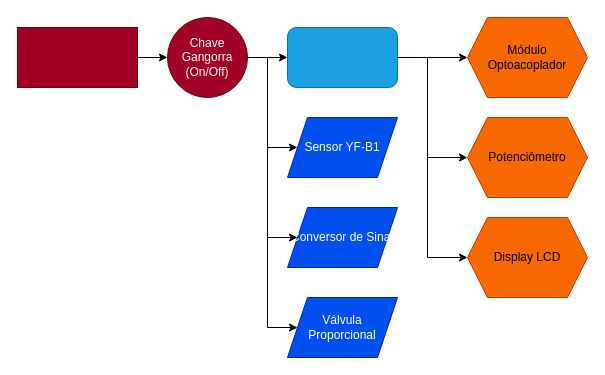
Image size: 605x375. Some labels were removed from this diagram. The shapes that lost their labels are listed below. From the top down, each one's centre as x and y in pixels, then its label:
the point at 77,57: Fonte 12V
the point at 342,57: Arduino Uno R4 Minima
